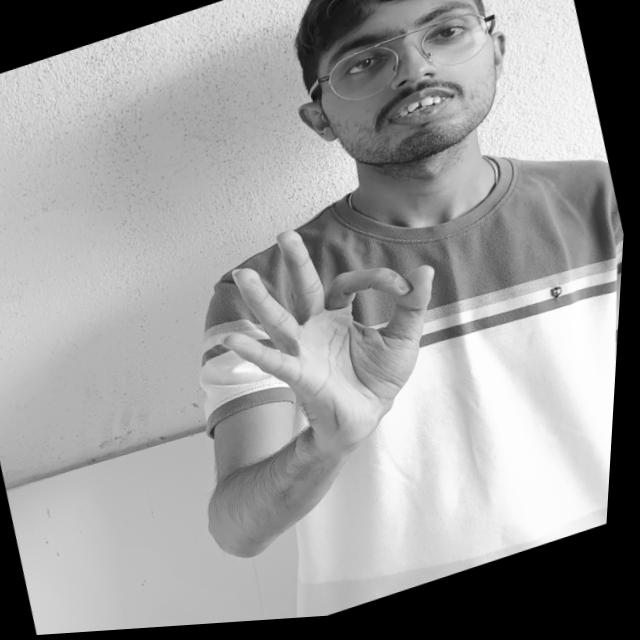Superb: (138, 132, 571, 525)
